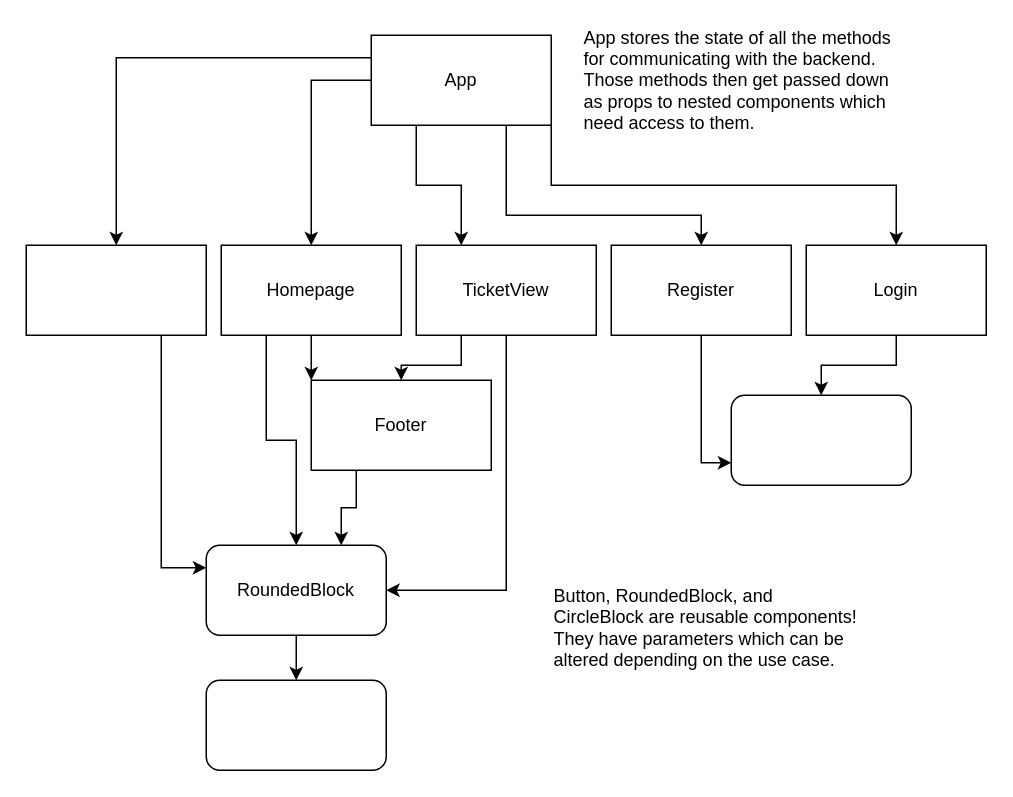
Some shapes in this 1013 by 797 pixel diagram are drawn without their labels. Each missing label, with the box of its shape:
Button: (730, 394, 911, 485)
CircleBlock: (205, 679, 386, 770)
EventList: (25, 244, 206, 335)
